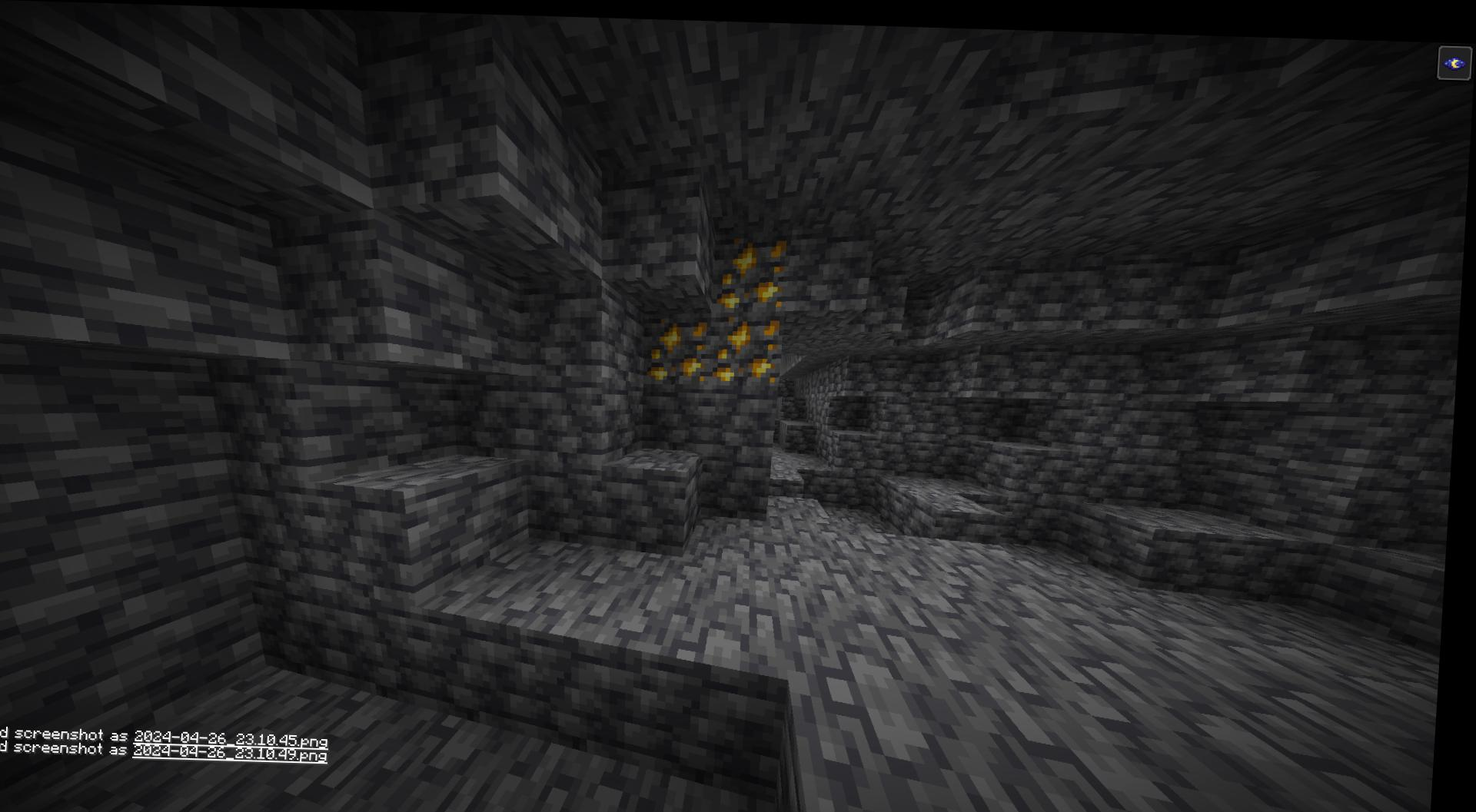gold ore: (720, 232, 797, 310), (713, 310, 788, 385), (643, 307, 717, 380)
